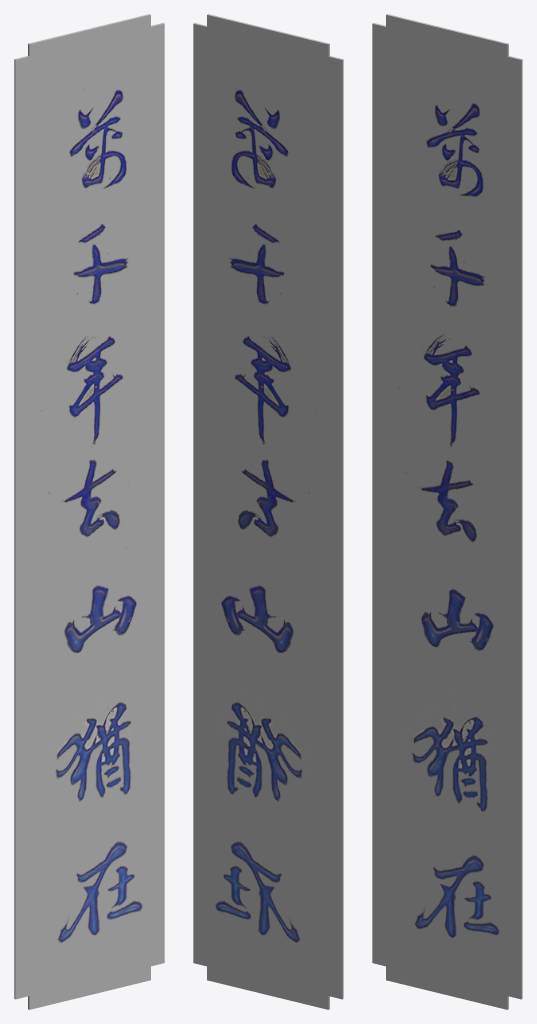
The model's file is SM_Unhyun_Iro_Joo_N001.fbx.
The picture shows the model from 3 angles, left to right: view 1: azimuth 30°, elevation 25°; view 2: azimuth 150°, elevation 25°; view 3: azimuth 330°, elevation 25°; orthographic projection.
Visible parts, largest first — view 1: SM_Unhyun_Iro_Joo_N001; view 2: SM_Unhyun_Iro_Joo_N001; view 3: SM_Unhyun_Iro_Joo_N001.
Part boxes in pixels (x1=…): SM_Unhyun_Iro_Joo_N001: x1=14, y1=14, x2=164, y2=1009; SM_Unhyun_Iro_Joo_N001: x1=193, y1=14, x2=343, y2=1009; SM_Unhyun_Iro_Joo_N001: x1=372, y1=14, x2=522, y2=1009.
Size of the model in its own units: 14.56 by 90.01 by 0.2.
